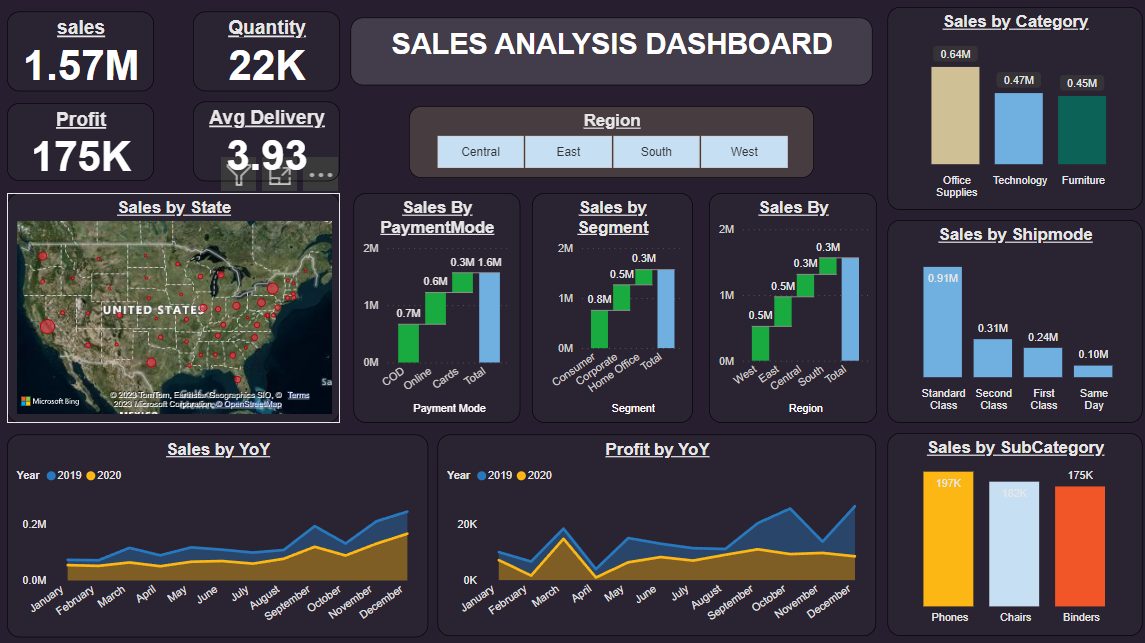

This screenshot's page, from the dashboard's own definition file:
{"tool":"powerbi","page":{"name":"Page 1","canvas":[1280,720],"ordinal":0},"visuals":[{"type":"clusteredBarChart","title":"Sales by Category","fields":{"Category":["SuperStore_Sales_Dataset.Category"],"Y":["Sum(SuperStore_Sales_Dataset.Sales)"]},"box":[988.3,10,283.3,225],"z":0},{"type":"clusteredBarChart","title":"Sales by SubCategory","fields":{"Category":["SuperStore_Sales_Dataset.Sub-Category"],"Y":["Sum(SuperStore_Sales_Dataset.Sales)"]},"box":[988.3,483.3,283.3,225],"z":1000},{"type":"clusteredBarChart","title":"Sales by Shipmode","fields":{"Category":["SuperStore_Sales_Dataset.Ship Mode"],"Y":["Sum(SuperStore_Sales_Dataset.Sales)"]},"box":[988.3,246.7,283.3,225],"z":2000},{"type":"stackedAreaChart","title":"Sales by YoY","fields":{"Category":["SuperStore_Sales_Dataset.Order Date.Variation.Date Hierarchy.Month","SuperStore_Sales_Dataset.Order Date.Variation.Date Hierarchy.Day"],"Y":["Sum(SuperStore_Sales_Dataset.Sales)"],"Series":["SuperStore_Sales_Dataset.Order Date.Variation.Date Hierarchy.Year"]},"box":[10.6,484.5,467.9,225.6],"z":3000},{"type":"stackedAreaChart","title":"Profit by YoY","fields":{"Category":["SuperStore_Sales_Dataset.Order Date.Variation.Date Hierarchy.Month","SuperStore_Sales_Dataset.Order Date.Variation.Date Hierarchy.Day"],"Series":["SuperStore_Sales_Dataset.Order Date.Variation.Date Hierarchy.Year"],"Y":["Sum(SuperStore_Sales_Dataset.Profit)"]},"box":[489.1,484.5,487.6,224.1],"z":4000},{"type":"map","title":"Sales by State","fields":{"Category":["SuperStore_Sales_Dataset.State"],"Size":["Sum(SuperStore_Sales_Dataset.Sales)"]},"box":[10,216.7,370,255],"z":5000},{"type":"donutChart","title":"Sales by Segment","fields":{"Category":["SuperStore_Sales_Dataset.Segment"],"Y":["Sum(SuperStore_Sales_Dataset.Sales)"]},"box":[588.3,216.7,186.7,255],"z":6000},{"type":"donutChart","title":"Sales By PaymentMode","fields":{"Category":["SuperStore_Sales_Dataset.Payment Mode"],"Y":["Sum(SuperStore_Sales_Dataset.Sales)"]},"box":[385,216.7,185,255],"z":7000},{"type":"textbox","box":[385,10,591.7,125],"z":8000},{"type":"slicer","fields":{"Values":["SuperStore_Sales_Dataset.Region"]},"box":[433.3,150,495,53.3],"z":9000},{"type":"card","title":"sales","fields":{"Values":["Sum(SuperStore_Sales_Dataset.Sales)"]},"box":[10,15,163.3,88.3],"z":10000},{"type":"card","title":"Quantity","fields":{"Values":["Sum(SuperStore_Sales_Dataset.Quantity)"]},"box":[195,16.7,163.3,88.3],"z":11000},{"type":"card","title":"Profit","fields":{"Values":["Sum(SuperStore_Sales_Dataset.Profit)"]},"box":[10,116.7,163.3,86.7],"z":12000},{"type":"card","title":"Avg Delivery","fields":{"Values":["Avg(SuperStore_Sales_Dataset.AvgDelivery)"]},"box":[195,116.7,163.3,88.3],"z":13000},{"type":"donutChart","title":"Sales By ","fields":{"Category":["SuperStore_Sales_Dataset.Region"],"Y":["Sum(SuperStore_Sales_Dataset.Sales)"]},"box":[790,216.7,186.7,255],"z":14000}]}

Visuals, with their boxes in screenshot pixels (x1, y1, x2, y2), scaled from the page's 1280x720 canvas onto the 1145x643 screenshot:
"Sales by Category" clusteredBarChart: [884, 9, 1137, 210]
"Sales by SubCategory" clusteredBarChart: [884, 432, 1137, 633]
"Sales by Shipmode" clusteredBarChart: [884, 220, 1137, 421]
"Sales by YoY" stackedAreaChart: [9, 433, 428, 634]
"Profit by YoY" stackedAreaChart: [438, 433, 874, 633]
"Sales by State" map: [9, 194, 340, 421]
"Sales by Segment" donutChart: [526, 194, 693, 421]
"Sales By PaymentMode" donutChart: [344, 194, 510, 421]
textbox: [344, 9, 874, 121]
slicer - SuperStore_Sales_Dataset.Region: [388, 134, 830, 182]
"sales" card: [9, 13, 155, 92]
"Quantity" card: [174, 15, 321, 94]
"Profit" card: [9, 104, 155, 182]
"Avg Delivery" card: [174, 104, 321, 183]
"Sales By " donutChart: [707, 194, 874, 421]
